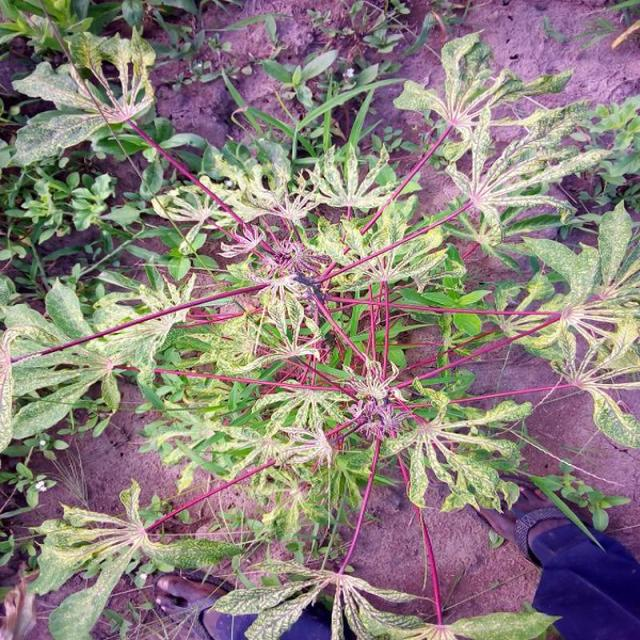cassava leaf: (2, 9, 638, 636), (528, 518, 640, 638)
